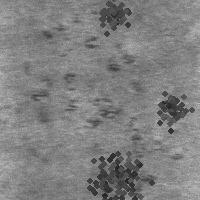rolled-in_scale: (35, 76, 156, 197), (40, 18, 132, 72), (75, 136, 149, 200), (80, 142, 152, 200), (148, 85, 190, 127), (89, 0, 133, 32)
